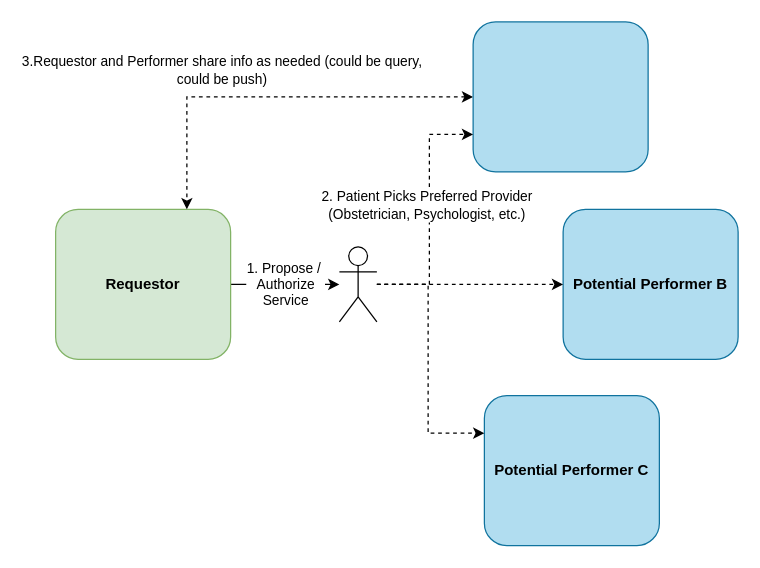
This 760x568 diagram has some shape labels left out. Each missing label, with the centre of its shape:
"Patient" belongs at [357,284].
"Potential Performer A" belongs at [560,96].
